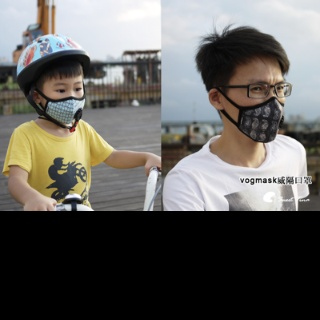with_mask: (223, 76, 288, 144), (42, 80, 86, 126)
